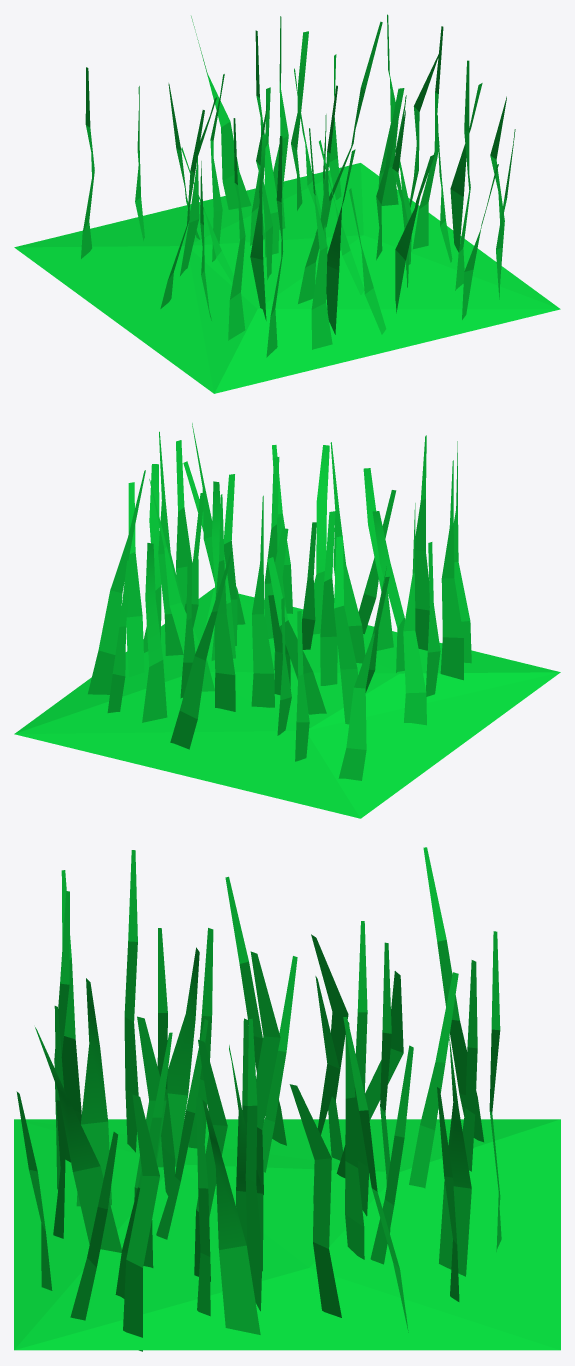
File: Grass3.fbx
The picture shows the model from 3 angles, top to bottom: view 1: azimuth 30°, elevation 25°; view 2: azimuth 150°, elevation 25°; view 3: azimuth 270°, elevation 25°; orthographic projection. The views are drawn at different scales.
Visible parts, largest first — view 1: Grass3; view 2: Grass3; view 3: Grass3.
Part boxes in pixels (x1,y1,x2,y2): Grass3: [14, 14, 560, 393]; Grass3: [14, 423, 560, 818]; Grass3: [14, 847, 560, 1351].
Bounding box in the file's own units: 1 × 0.6569 × 1.
